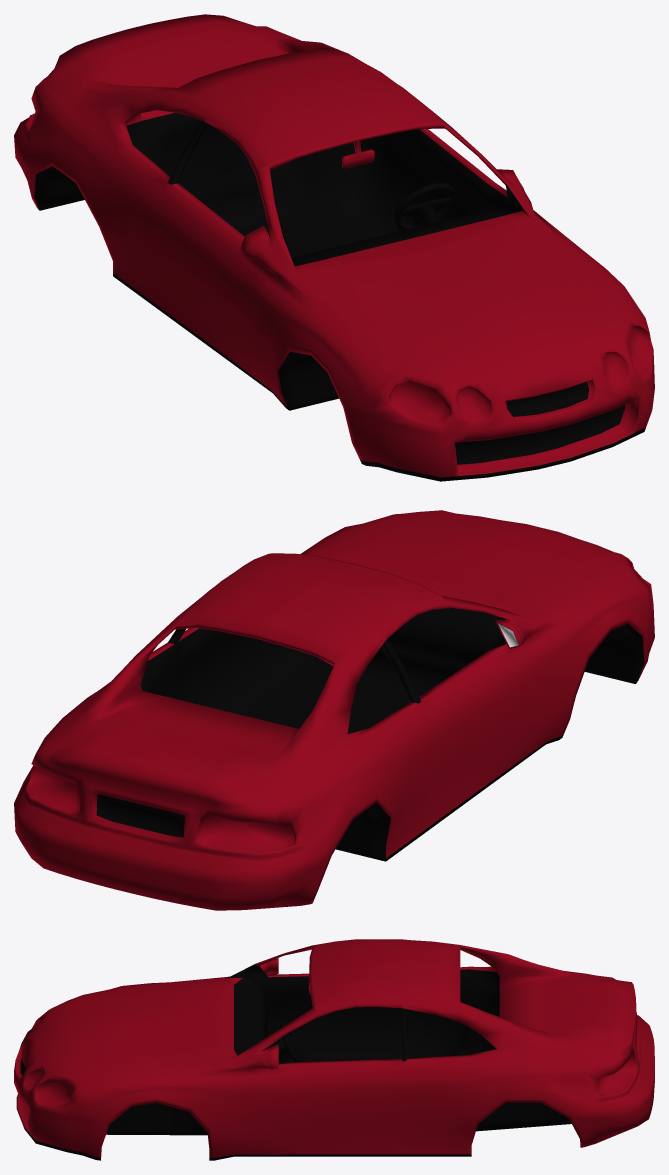
File: CarAWD.fbx
3 views of the same model, one above another, from view 1: azimuth 30°, elevation 25°; view 2: azimuth 150°, elevation 25°; view 3: azimuth 270°, elevation 25° (orthographic). The views are drawn at different scales.
Parts seen in each view (by area): view 1: CHASSIS, STEERING; view 2: CHASSIS; view 3: CHASSIS, STEERING.
Boxes of the visible parts, x1=… form: CHASSIS: x1=14, y1=14, x2=654, y2=481; STEERING: x1=394, y1=183, x2=456, y2=230; CHASSIS: x1=14, y1=510, x2=654, y2=910; CHASSIS: x1=14, y1=939, x2=654, y2=1160; STEERING: x1=278, y1=1022, x2=306, y2=1064.
Bounding box in the file's own units: 177 × 113 × 440.
